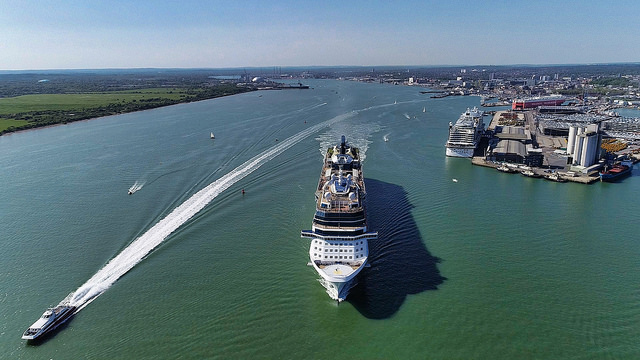PCC: (513, 92, 568, 106)
boat: (24, 303, 83, 346)
bulk carrier: (600, 153, 633, 180)
cruise_ship: (303, 127, 379, 305), (445, 107, 480, 164)
